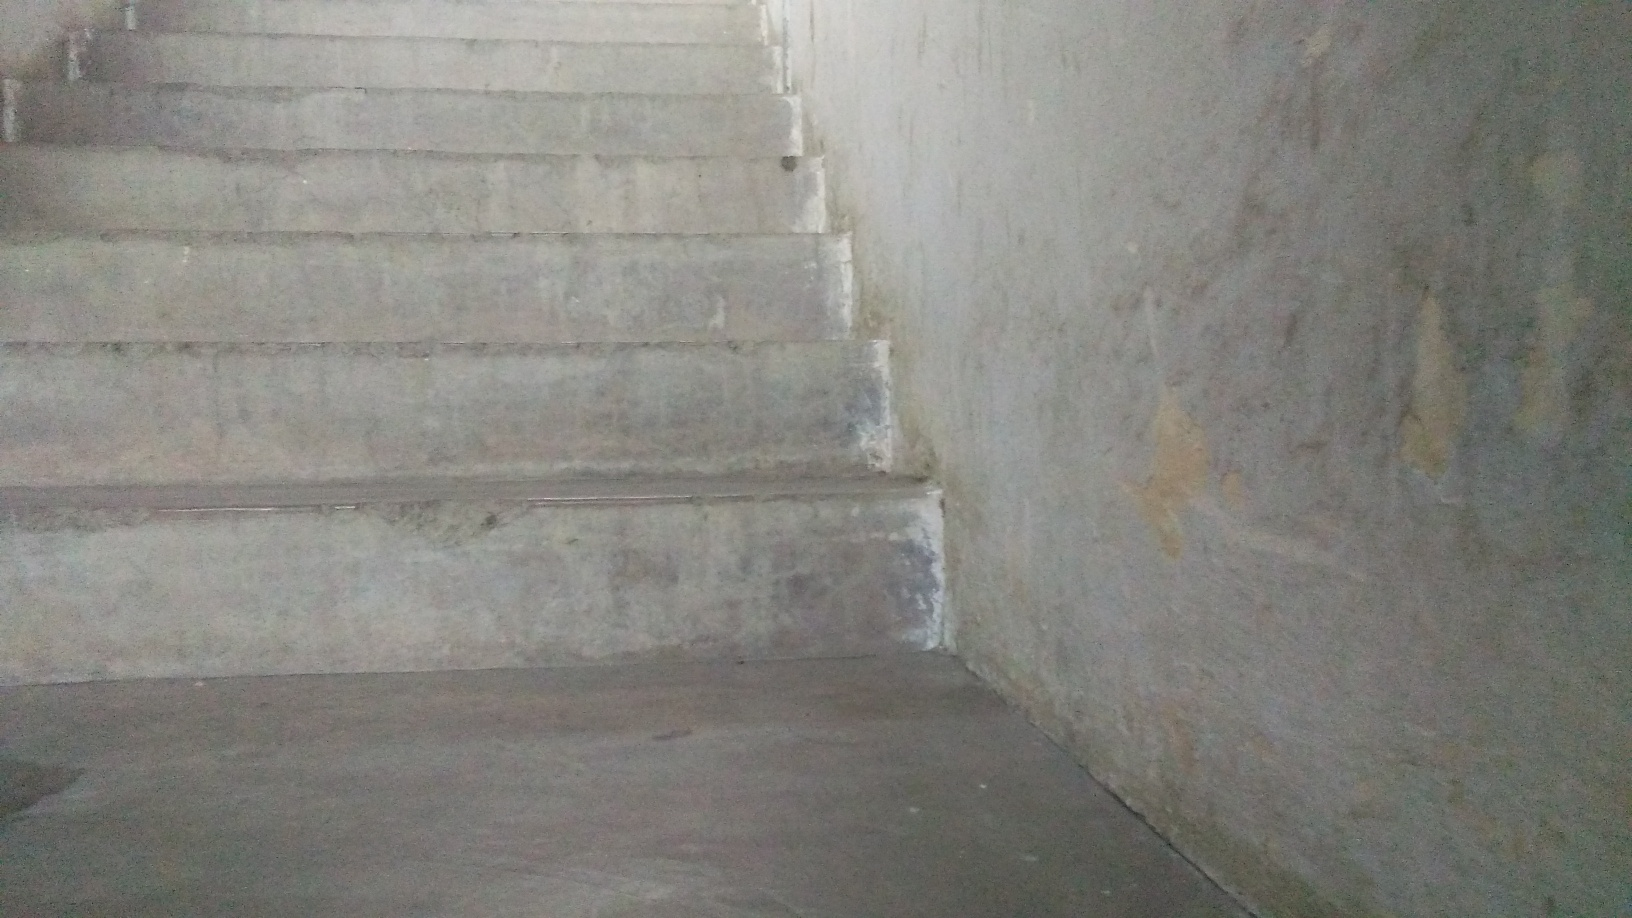stairs_up: (13, 21, 948, 686)
